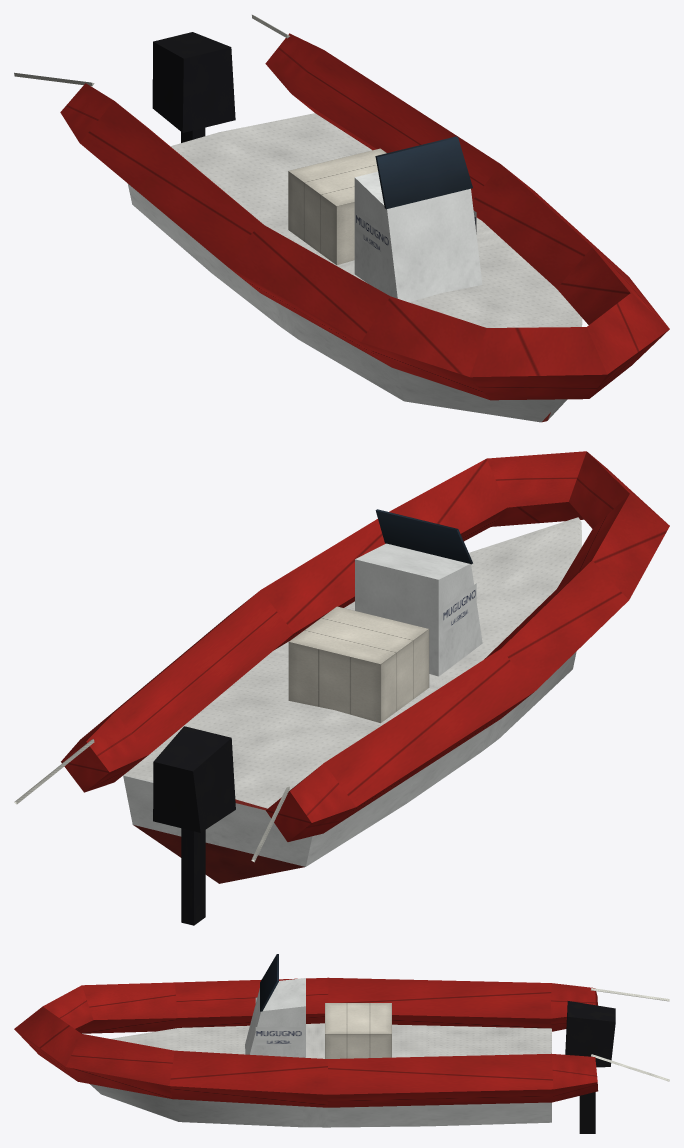
File: SM_Morin_Barca_Gommone_Rosso_LOD2.fbx
3 renders of one model, top to bottom at view 1: azimuth 30°, elevation 25°; view 2: azimuth 150°, elevation 25°; view 3: azimuth 270°, elevation 25°, orthographic. The views are drawn at different scales.
Visible parts, largest first — view 1: SM_Morin_Barca_Gommone_Rosso_LOD2; view 2: SM_Morin_Barca_Gommone_Rosso_LOD2; view 3: SM_Morin_Barca_Gommone_Rosso_LOD2.
Part boxes in pixels (x1,y1,x2,y2): SM_Morin_Barca_Gommone_Rosso_LOD2: (14, 14, 669, 422); SM_Morin_Barca_Gommone_Rosso_LOD2: (14, 451, 669, 925); SM_Morin_Barca_Gommone_Rosso_LOD2: (14, 954, 669, 1133).
Size of the model in its own units: 220 by 586 by 162.
Materials: 1 (1 with a texture image).
